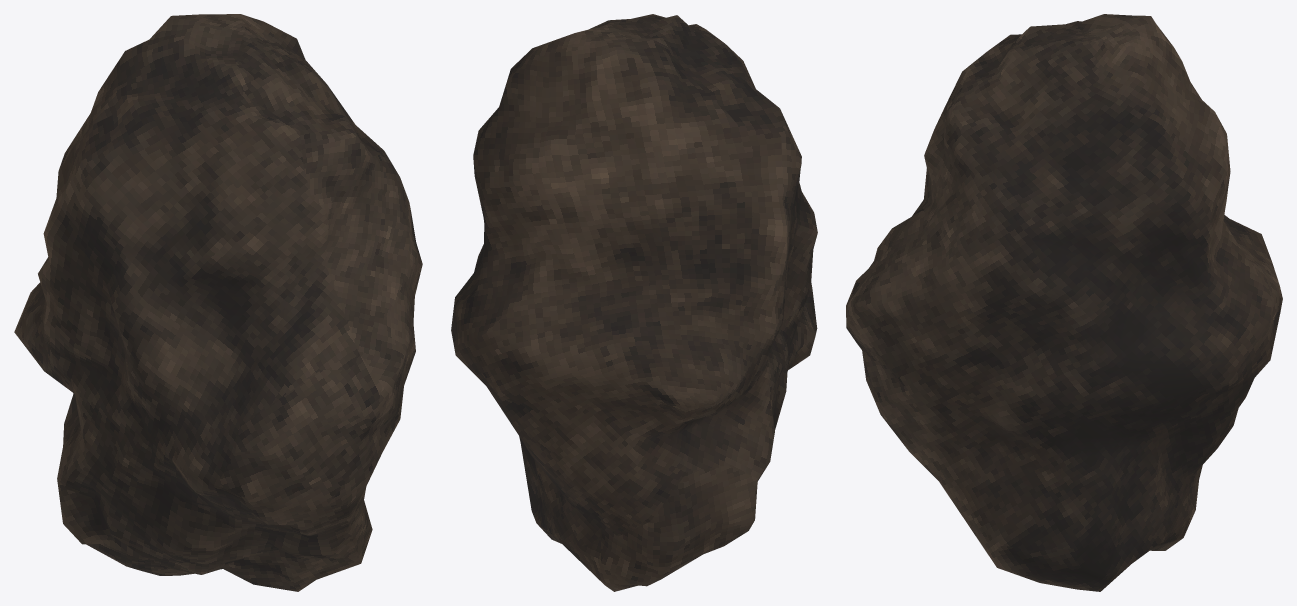
File: SM_RP2_Rock_4m_5.002.glb
3 renders of one model, left to right at view 1: azimuth 30°, elevation 25°; view 2: azimuth 150°, elevation 25°; view 3: azimuth 270°, elevation 25°, orthographic. The views are drawn at different scales.
Parts seen in each view (by area): view 1: SM_RP2_Rock_4m_5.002; view 2: SM_RP2_Rock_4m_5.002; view 3: SM_RP2_Rock_4m_5.002.
Part boxes in pixels (bbox=[...]): SM_RP2_Rock_4m_5.002: bbox=[14, 14, 422, 591]; SM_RP2_Rock_4m_5.002: bbox=[451, 14, 817, 591]; SM_RP2_Rock_4m_5.002: bbox=[846, 14, 1282, 591].
Bounding box in the file's own units: 3.9 × 6.3 × 4.65.
1 material, 1 textured.
